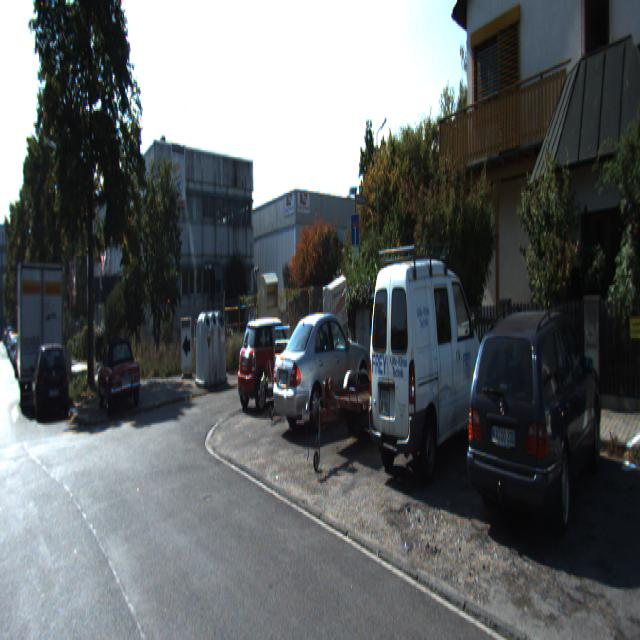Car: (468, 303, 608, 559), (366, 242, 495, 493), (280, 357, 435, 488), (269, 304, 374, 438), (234, 317, 306, 415), (19, 262, 64, 414), (249, 322, 313, 426), (95, 334, 141, 414), (36, 340, 71, 425), (318, 276, 347, 356)
